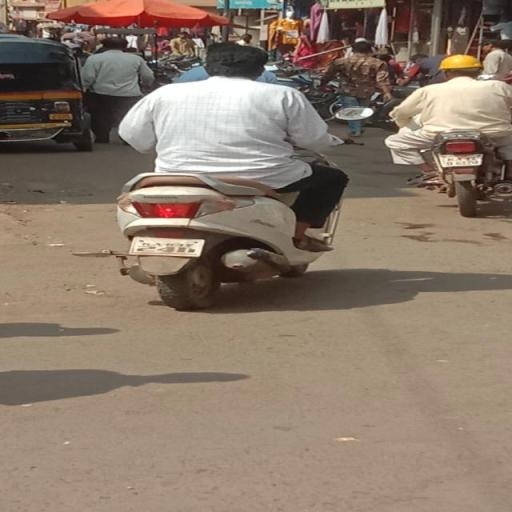bike: (108, 39, 356, 318)
withouthelmet: (202, 42, 268, 77)
